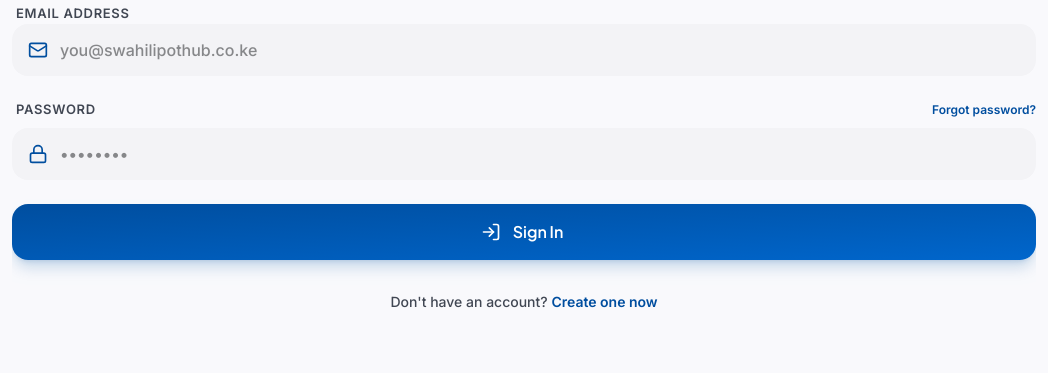
Test case: LoginForm › shows validation errors when submitting empty form
The image size is (1048, 373).
// Grab submit button by its text
Click the button "Sign In" at (524, 232), box [12,204,1036,260]
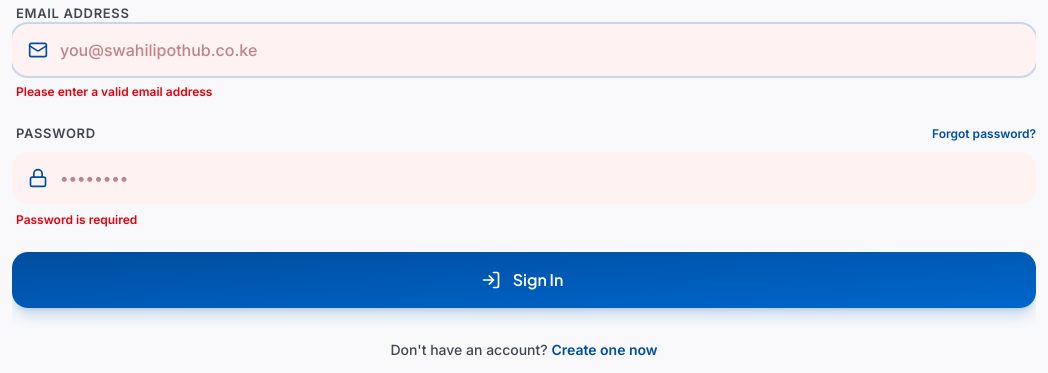
Expected: the text "Please enter a valid email address" is shown, [16,84,212,99]
Expected: the text "Password is required" is shown, [16,212,137,226]
